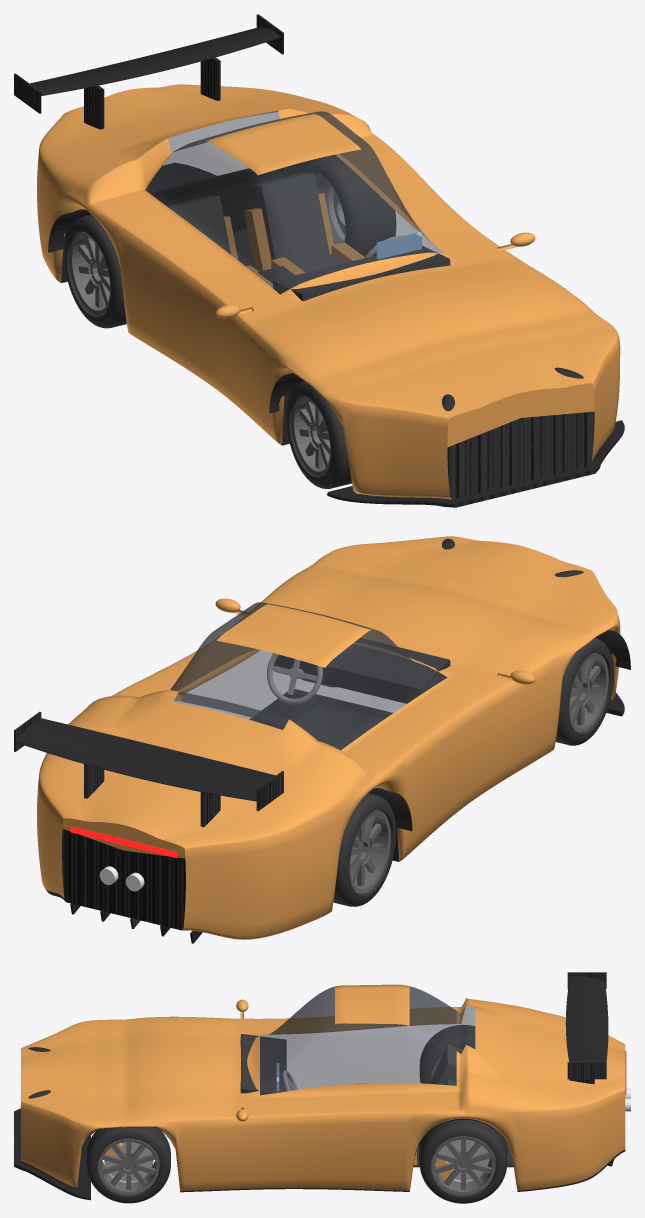
File: amg-gt-black-series.glb
3 renders of one model, top to bottom at view 1: azimuth 30°, elevation 25°; view 2: azimuth 150°, elevation 25°; view 3: azimuth 270°, elevation 25°, orthographic. The views are drawn at different scales.
Parts seen in each view (by area): view 1: Body_PrimaryPaint, Glass_Windows, Carbon_Exterior, Interior_Seats, Tire_RL, Underbody, Tire_RR, Tire_FR, Interior_SeatBolsters, Rim_RR, Interior_Dashboard, Rim_FR (+2 smaller); view 2: Body_PrimaryPaint, Carbon_Exterior, Glass_Windows, Interior_Dashboard, WheelWells, Tire_RR, Rim_RR, Rim_FR, Tire_FR, Interior_Tub, Interior_SteeringWheel, Lights_Rear (+1 smaller); view 3: Body_PrimaryPaint, Glass_Windows, Carbon_Exterior, Tire_RL, Tire_FL, Rim_RL, Rim_FL, Interior_Dashboard, Tire_RR, Underbody, Interior_Seats, BrakeDisc_RL (+1 smaller).
Boxes of the visible parts, left/top/right/bottom form: Body_PrimaryPaint: left=37, top=84, right=620, bottom=499; Glass_Windows: left=145, top=111, right=444, bottom=294; Carbon_Exterior: left=14, top=14, right=624, bottom=507; Interior_Seats: left=167, top=172, right=342, bottom=272; Tire_RL: left=304, top=155, right=396, bottom=256; Underbody: left=61, top=166, right=607, bottom=455; Tire_RR: left=64, top=214, right=126, bottom=328; Tire_FR: left=286, top=381, right=351, bottom=488; Interior_SeatBolsters: left=224, top=193, right=364, bottom=287; Rim_RR: left=69, top=232, right=110, bottom=315; Interior_Dashboard: left=272, top=246, right=450, bottom=301; Rim_FR: left=291, top=396, right=330, bottom=475; Body_PrimaryPaint: left=37, top=536, right=620, bottom=939; Carbon_Exterior: left=14, top=692, right=624, bottom=943; Glass_Windows: left=170, top=602, right=447, bottom=749; Interior_Dashboard: left=272, top=638, right=450, bottom=703; WheelWells: left=249, top=559, right=630, bottom=831; Tire_RR: left=333, top=793, right=396, bottom=906; Rim_RR: left=349, top=810, right=390, bottom=893; Rim_FR: left=569, top=653, right=608, bottom=732; Tire_FR: left=555, top=638, right=613, bottom=745; Interior_Tub: left=294, top=704, right=382, bottom=746; Interior_SteeringWheel: left=267, top=653, right=322, bottom=704; Lights_Rear: left=70, top=826, right=176, bottom=858; Body_PrimaryPaint: left=21, top=984, right=625, bottom=1190; Glass_Windows: left=260, top=986, right=475, bottom=1095; Carbon_Exterior: left=14, top=972, right=613, bottom=1200; Tire_RL: left=419, top=1119, right=507, bottom=1203; Tire_FL: left=86, top=1127, right=170, bottom=1203; Rim_RL: left=431, top=1136, right=495, bottom=1195; Rim_FL: left=98, top=1138, right=159, bottom=1194; Interior_Dashboard: left=240, top=1034, right=286, bottom=1095; Tire_RR: left=419, top=1024, right=475, bottom=1083; Underbody: left=21, top=1118, right=625, bottom=1192; Interior_Seats: left=417, top=1044, right=462, bottom=1162; BrakeDisc_RL: left=437, top=1139, right=489, bottom=1181.
Size of the model in its own units: 2.2 by 1.29 by 4.85.
Materials: 16 (2 with a texture image).
